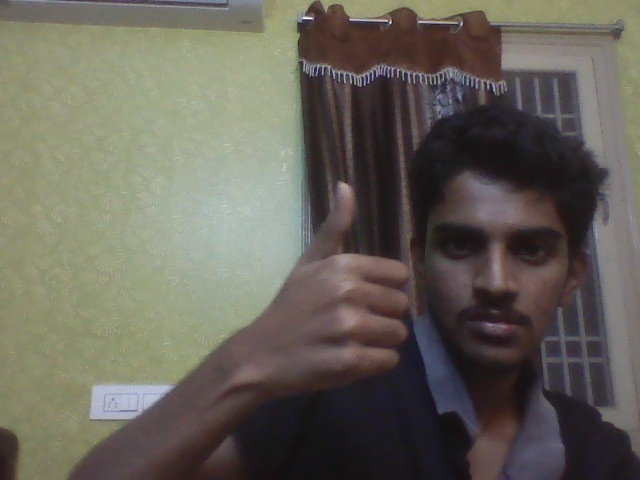thumbsup: (270, 172, 415, 395)
